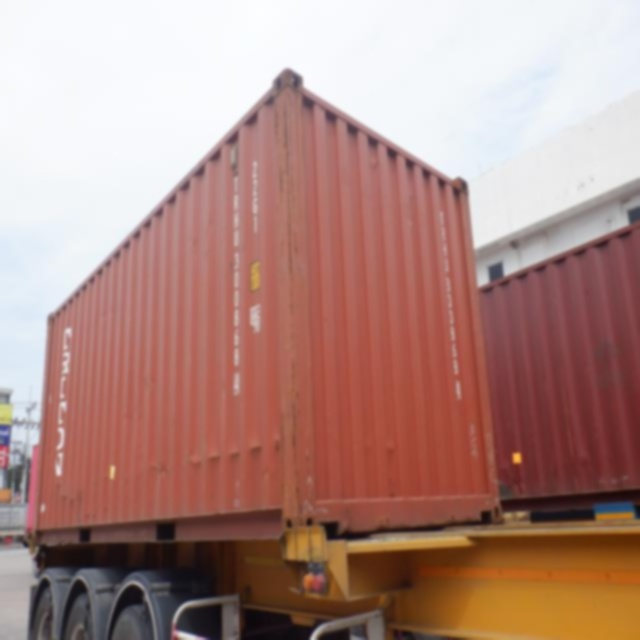Dent: (181, 431, 285, 474), (500, 464, 529, 498), (57, 480, 78, 509), (152, 463, 176, 478), (145, 375, 158, 397), (578, 452, 593, 467), (386, 439, 398, 457), (371, 157, 381, 175)
